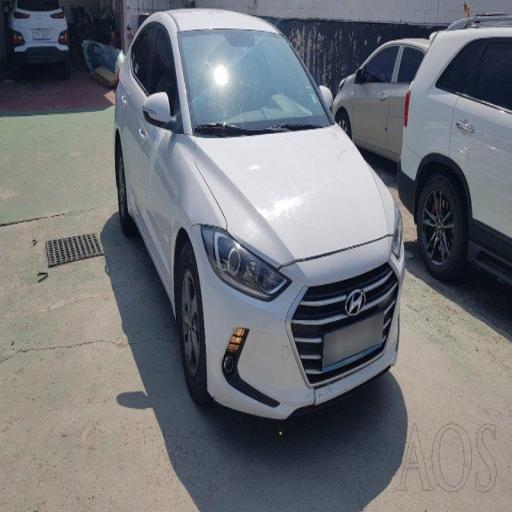broken: (176, 172, 247, 274)
